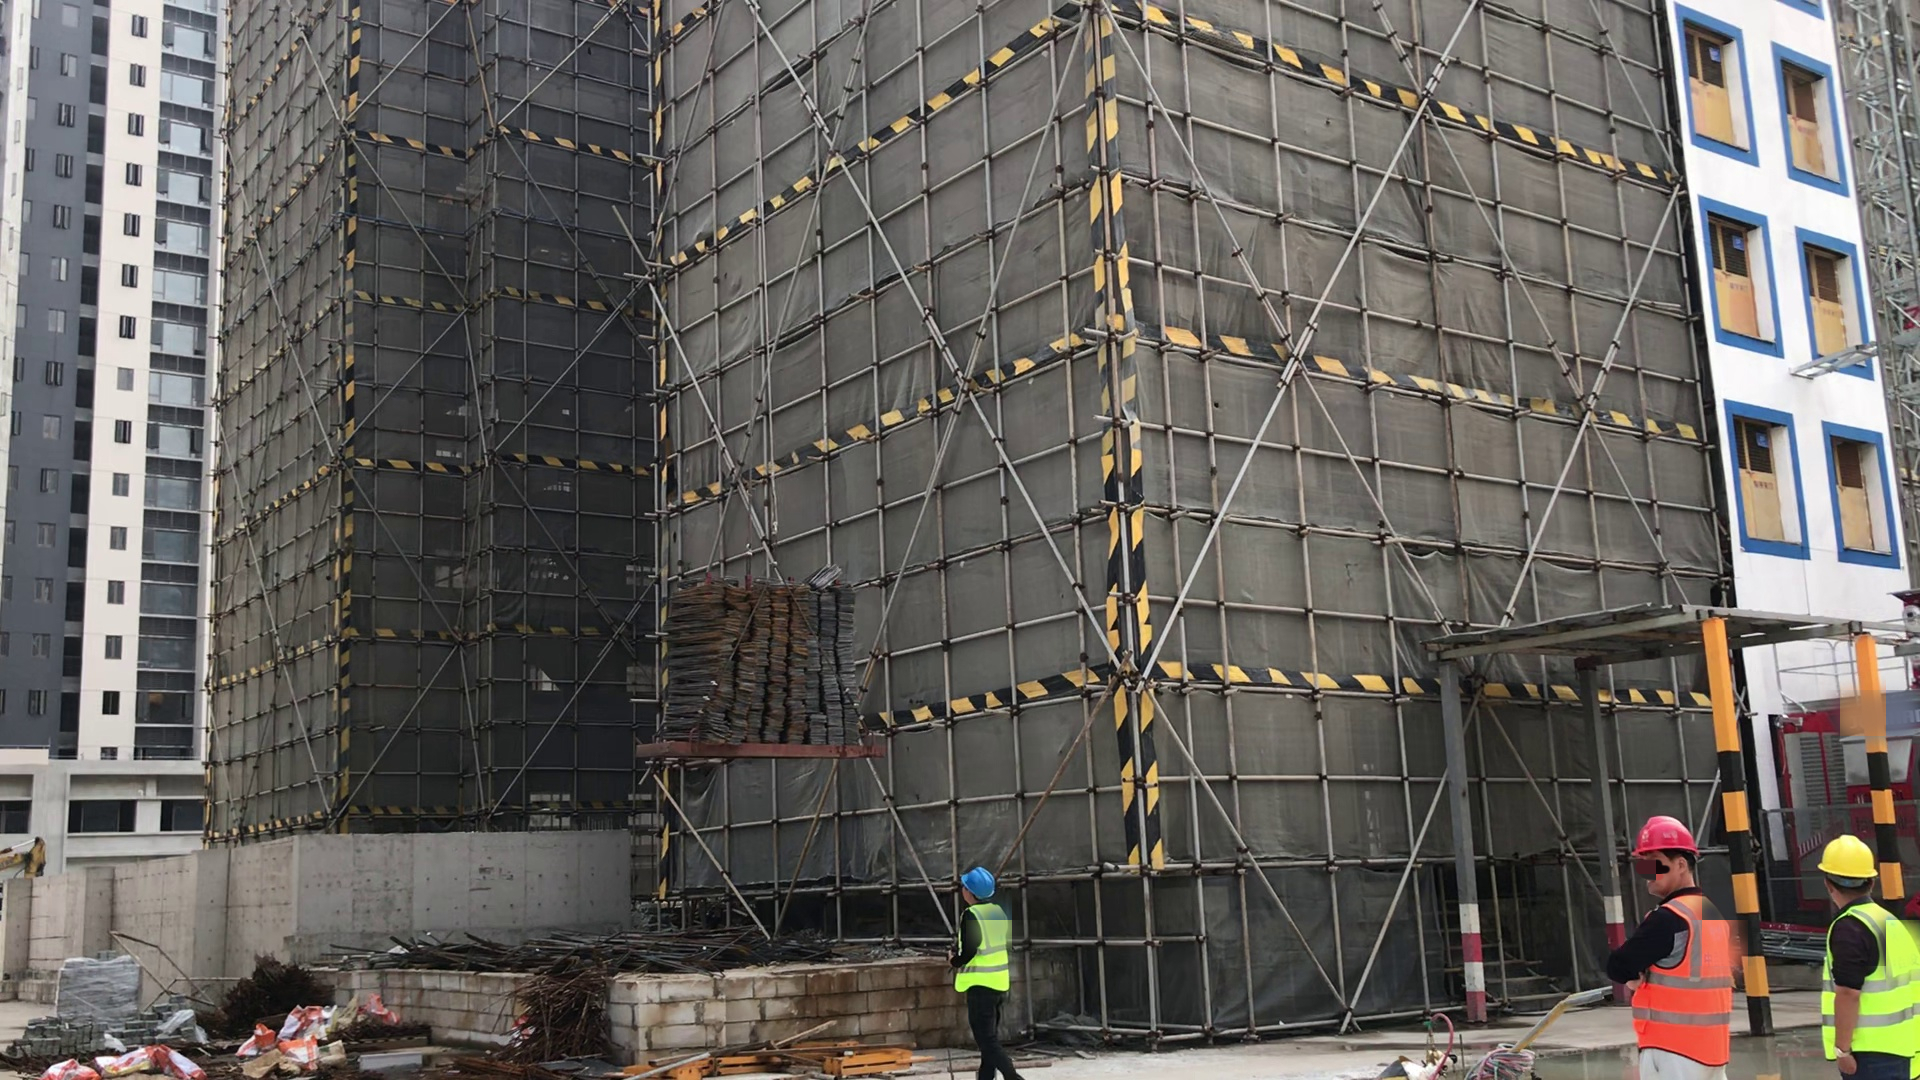helmet: (1634, 798, 1703, 862), (1815, 821, 1879, 882), (962, 858, 998, 904)
person: (1607, 792, 1748, 1080), (1813, 828, 1920, 1080), (958, 850, 1030, 1080)
vest: (1636, 891, 1739, 1078), (1819, 899, 1920, 1072), (950, 899, 1011, 1007)
